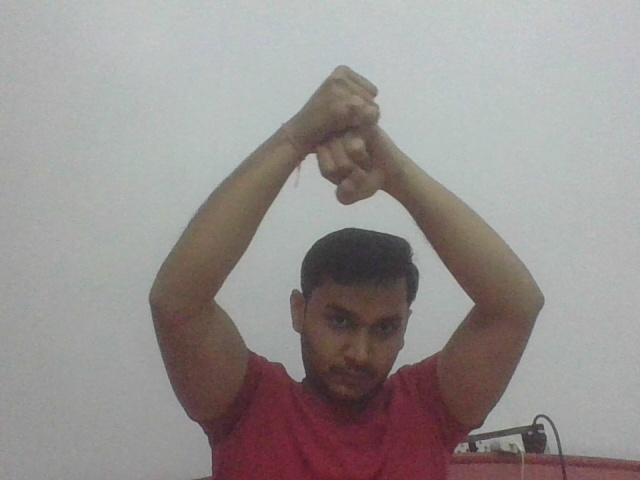S: (309, 61, 397, 207)
